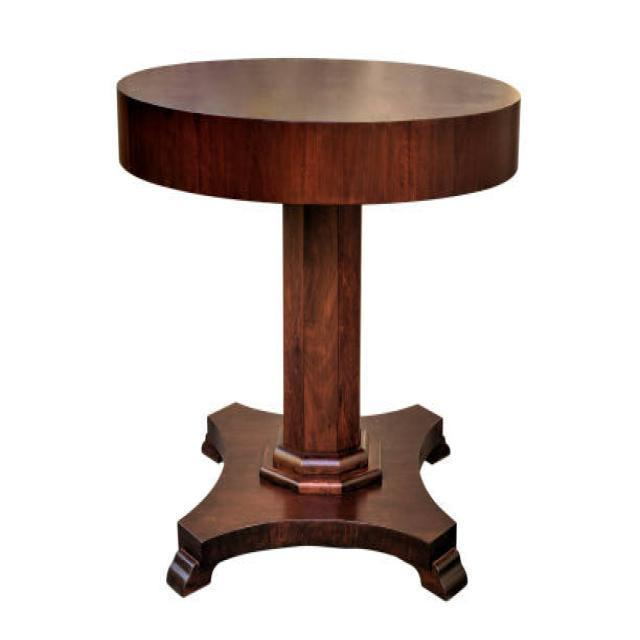table: (115, 55, 521, 601)
